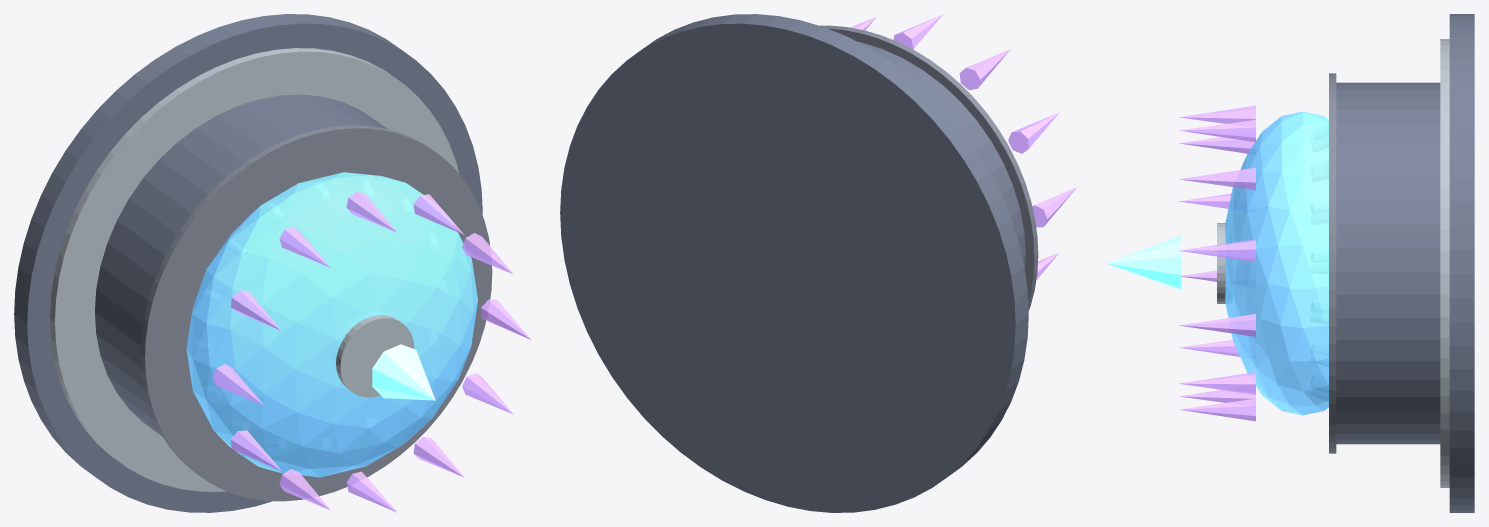
Rendered from 01_Meteor_Observatory_Temple.glb.
3 renders of one model, left to right at view 1: azimuth 30°, elevation 25°; view 2: azimuth 150°, elevation 25°; view 3: azimuth 270°, elevation 25°, orthographic. The views are drawn at different scales.
Visible parts, largest first — view 1: 01_Meteor_Observatory_Temple_20, 01_Meteor_Observatory_Temple_01, 01_Meteor_Observatory_Temple_19, 01_Meteor_Observatory_Temple_00, 01_Meteor_Observatory_Temple_02, 01_Meteor_Observatory_Temple_33, 01_Meteor_Observatory_Temple_34, 01_Meteor_Observatory_Temple_29, 01_Meteor_Observatory_Temple_24, 01_Meteor_Observatory_Temple_22, 01_Meteor_Observatory_Temple_31, 01_Meteor_Observatory_Temple_27 (+7 smaller); view 2: 01_Meteor_Observatory_Temple_00, 01_Meteor_Observatory_Temple_19, 01_Meteor_Observatory_Temple_02, 01_Meteor_Observatory_Temple_25, 01_Meteor_Observatory_Temple_26, 01_Meteor_Observatory_Temple_27, 01_Meteor_Observatory_Temple_24; view 3: 01_Meteor_Observatory_Temple_02, 01_Meteor_Observatory_Temple_20, 01_Meteor_Observatory_Temple_00, 01_Meteor_Observatory_Temple_01, 01_Meteor_Observatory_Temple_19, 01_Meteor_Observatory_Temple_34, 01_Meteor_Observatory_Temple_21, 01_Meteor_Observatory_Temple_32, 01_Meteor_Observatory_Temple_22, 01_Meteor_Observatory_Temple_31, 01_Meteor_Observatory_Temple_23, 01_Meteor_Observatory_Temple_24 (+6 smaller).
Boxes of the visible parts, bbox=[...] form: 01_Meteor_Observatory_Temple_20: bbox=[186, 172, 477, 477]; 01_Meteor_Observatory_Temple_01: bbox=[50, 48, 458, 491]; 01_Meteor_Observatory_Temple_19: bbox=[141, 125, 492, 501]; 01_Meteor_Observatory_Temple_00: bbox=[14, 14, 482, 512]; 01_Meteor_Observatory_Temple_02: bbox=[95, 94, 387, 436]; 01_Meteor_Observatory_Temple_33: bbox=[336, 315, 414, 397]; 01_Meteor_Observatory_Temple_34: bbox=[372, 344, 435, 400]; 01_Meteor_Observatory_Temple_29: bbox=[279, 469, 330, 509]; 01_Meteor_Observatory_Temple_24: bbox=[346, 191, 397, 232]; 01_Meteor_Observatory_Temple_22: bbox=[462, 233, 513, 274]; 01_Meteor_Observatory_Temple_31: bbox=[413, 436, 464, 477]; 01_Meteor_Observatory_Temple_27: bbox=[212, 364, 263, 405]; 01_Meteor_Observatory_Temple_00: bbox=[560, 14, 1028, 512]; 01_Meteor_Observatory_Temple_19: bbox=[820, 25, 1038, 310]; 01_Meteor_Observatory_Temple_02: bbox=[857, 41, 1025, 269]; 01_Meteor_Observatory_Temple_25: bbox=[959, 49, 1010, 90]; 01_Meteor_Observatory_Temple_26: bbox=[1008, 112, 1059, 153]; 01_Meteor_Observatory_Temple_27: bbox=[1032, 187, 1077, 227]; 01_Meteor_Observatory_Temple_24: bbox=[893, 14, 943, 49]; 01_Meteor_Observatory_Temple_02: bbox=[1336, 82, 1440, 444]; 01_Meteor_Observatory_Temple_20: bbox=[1225, 111, 1328, 415]; 01_Meteor_Observatory_Temple_00: bbox=[1449, 14, 1474, 512]; 01_Meteor_Observatory_Temple_01: bbox=[1440, 39, 1449, 487]; 01_Meteor_Observatory_Temple_19: bbox=[1329, 73, 1336, 453]; 01_Meteor_Observatory_Temple_34: bbox=[1106, 235, 1181, 290]; 01_Meteor_Observatory_Temple_21: bbox=[1178, 314, 1255, 336]; 01_Meteor_Observatory_Temple_32: bbox=[1179, 372, 1255, 394]; 01_Meteor_Observatory_Temple_22: bbox=[1179, 239, 1255, 262]; 01_Meteor_Observatory_Temple_31: bbox=[1179, 398, 1255, 421]; 01_Meteor_Observatory_Temple_23: bbox=[1179, 167, 1255, 190]; 01_Meteor_Observatory_Temple_24: bbox=[1178, 120, 1255, 142].
Size of the model in its own units: 16 by 16 by 11.8.
